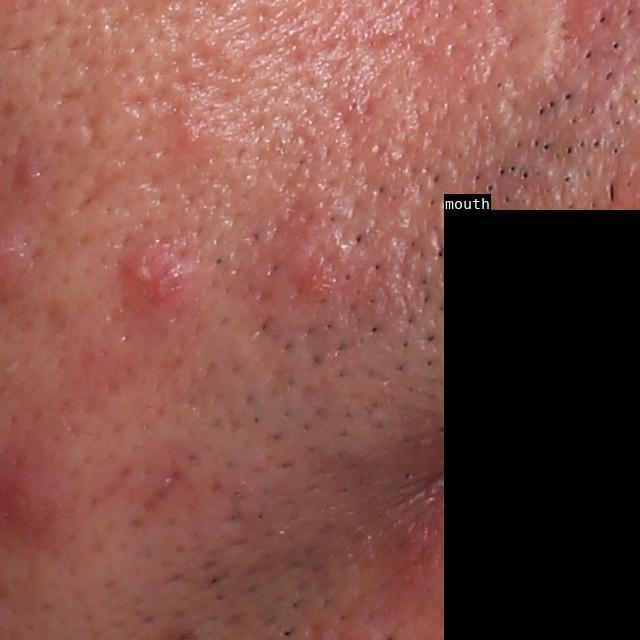atrophic_scar: (73, 160, 130, 219), (80, 110, 104, 151)
papule: (289, 252, 339, 300), (180, 120, 213, 155), (12, 154, 42, 188)
